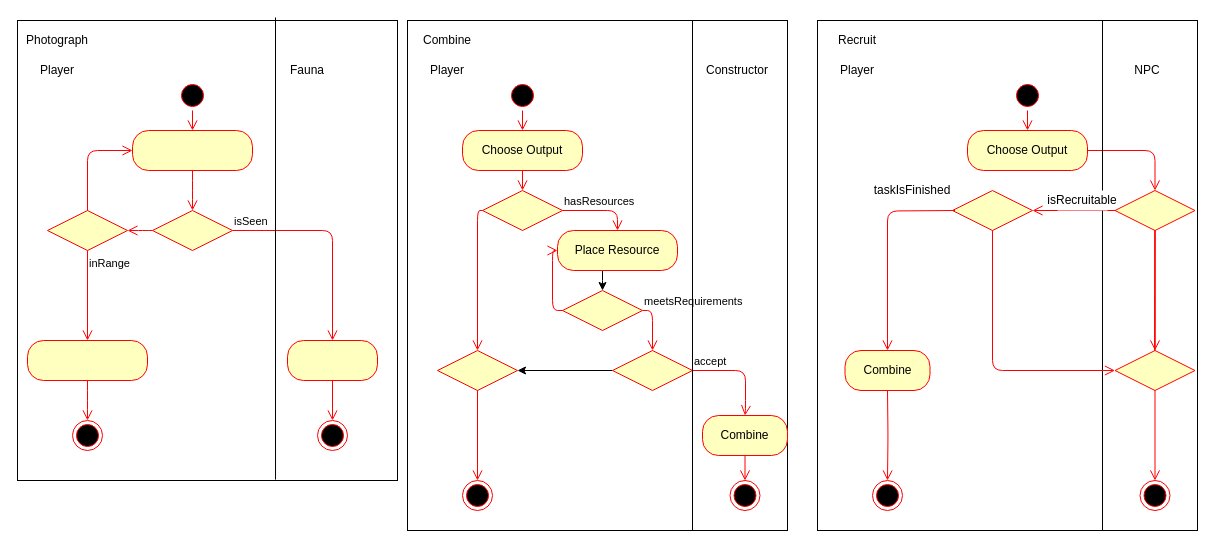
Some shapes in this 1215 by 549 pixel diagram are drawn without their labels. The centre of each missing label's shape, as x and y in pixels:
"Flee" belongs at point (332, 360).
"Move" belongs at point (192, 150).
"TakePhoto" belongs at point (87, 360).
